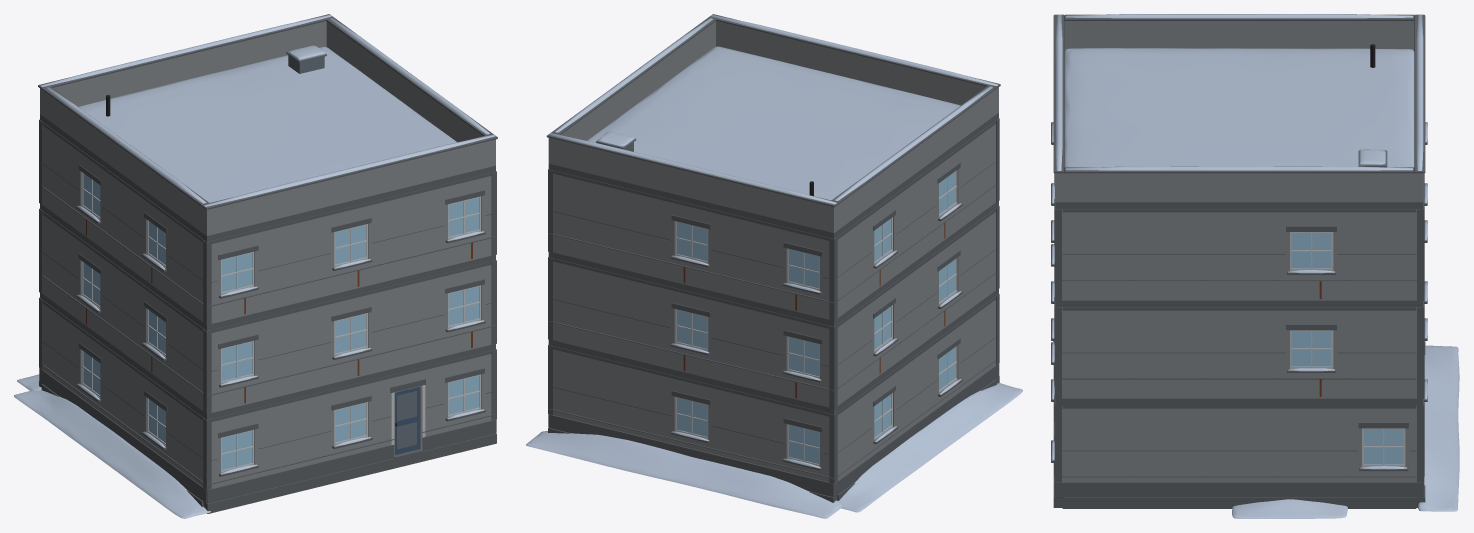
File: apartment_small.glb
3 views of the same model, side by side, from view 1: azimuth 30°, elevation 25°; view 2: azimuth 150°, elevation 25°; view 3: azimuth 270°, elevation 25° (orthographic). The views are drawn at different scales.
Parts seen in each view (by area): view 1: Roof, Walls2_S, Walls1_S, Walls0_S, Walls2_W, Walls0_W, Walls1_W, Floor0, Walls0_S_Stub, Walls2_S_Stub, Walls1_S_Stub, Floor2 (+17 smaller); view 2: Roof, Walls1_N, Walls2_N, Walls0_N, Floor0, Walls0_W, Walls2_W, Walls1_W, Walls2_N_Stub, Floor1, Floor2, Walls1_N_Stub (+10 smaller); view 3: Roof, Walls2_E, Walls1_E, Walls0_E, Floor0, Walls1_E_Stub, Floor1, Floor2, Walls0_E_Stub, Walls2_E_Stub, Window_13, Window_21 (+7 smaller).
Part boxes in pixels (<box>): Roof: <box>38,14,497,241</box>; Walls2_S: <box>203,171,496,325</box>; Walls1_S: <box>203,260,496,414</box>; Walls0_S: <box>202,349,496,503</box>; Walls2_W: <box>42,122,203,321</box>; Walls0_W: <box>42,300,203,500</box>; Walls1_W: <box>42,211,203,411</box>; Floor0: <box>14,374,496,518</box>; Walls0_S_Stub: <box>202,414,496,503</box>; Walls2_S_Stub: <box>203,236,496,324</box>; Walls1_S_Stub: <box>203,325,496,413</box>; Floor2: <box>40,204,495,330</box>; Roof: <box>546,14,1000,238</box>; Walls1_N: <box>548,257,837,408</box>; Walls2_N: <box>548,169,837,321</box>; Walls0_N: <box>548,345,838,497</box>; Floor0: <box>526,376,1022,518</box>; Walls0_W: <box>837,296,995,494</box>; Walls2_W: <box>837,121,995,317</box>; Walls1_W: <box>837,208,995,405</box>; Walls2_N_Stub: <box>548,233,837,320</box>; Floor1: <box>548,289,998,414</box>; Floor2: <box>548,201,998,326</box>; Walls1_N_Stub: <box>548,321,837,408</box>; Roof: <box>1053,14,1425,208</box>; Walls2_E: <box>1062,209,1416,300</box>; Walls1_E: <box>1062,307,1416,398</box>; Walls0_E: <box>1062,405,1416,497</box>; Floor0: <box>1053,341,1459,518</box>; Walls1_E_Stub: <box>1062,377,1416,398</box>; Floor1: <box>1055,398,1423,405</box>; Floor2: <box>1055,300,1423,306</box>; Walls0_E_Stub: <box>1062,475,1416,481</box>; Walls2_E_Stub: <box>1062,279,1416,300</box>; Window_13: <box>1291,331,1331,366</box>; Window_21: <box>1291,233,1331,268</box>.
Size of what is drawn, in the model's own units: 11.91 by 10.4 by 11.33.
